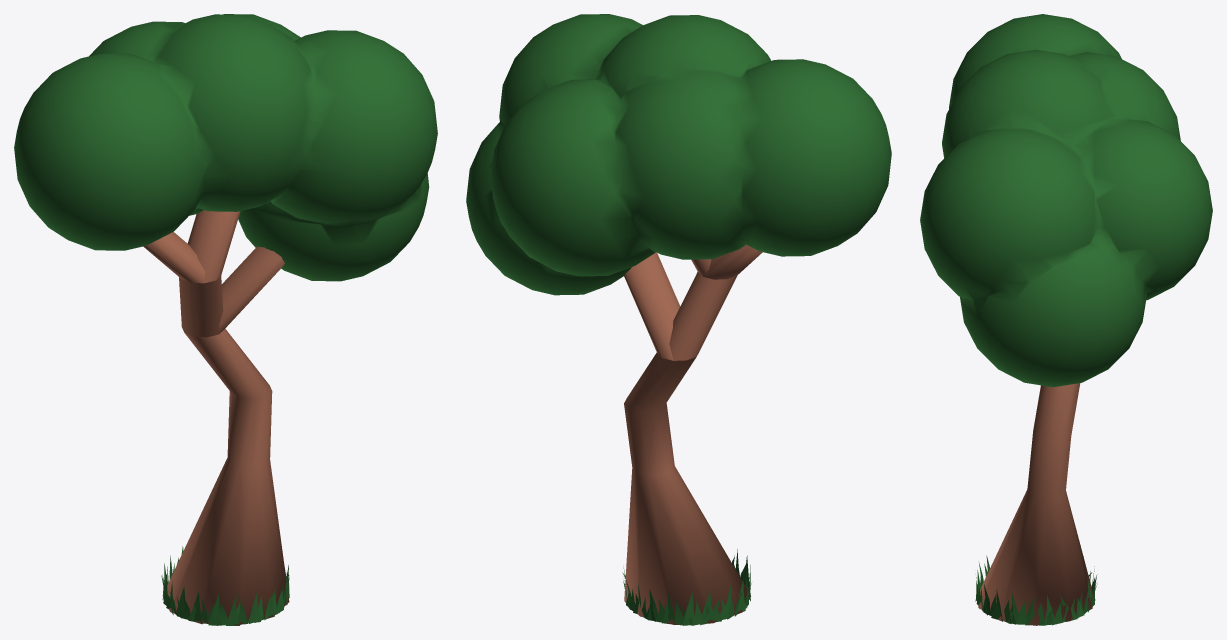
Rendered from tree4.fbx.
The picture shows the model from 3 angles, left to right: view 1: azimuth 30°, elevation 25°; view 2: azimuth 150°, elevation 25°; view 3: azimuth 270°, elevation 25°; orthographic projection. The views are drawn at different scales.
Parts seen in each view (by area): view 1: Icosphere, trunk.003, grass.003; view 2: Icosphere, trunk.003, grass.003; view 3: Icosphere, trunk.003, grass.003.
Part boxes in pixels (box(x1,y1,x2,y2)): Icosphere: box(14, 14, 437, 281); trunk.003: box(143, 210, 289, 625); grass.003: box(161, 546, 289, 625); Icosphere: box(466, 14, 891, 295); trunk.003: box(624, 245, 762, 624); grass.003: box(622, 549, 751, 625); Icosphere: box(920, 14, 1212, 387); trunk.003: box(978, 383, 1092, 625); grass.003: box(975, 555, 1097, 625).
Size of the model in its own units: 639 by 893 by 436.
